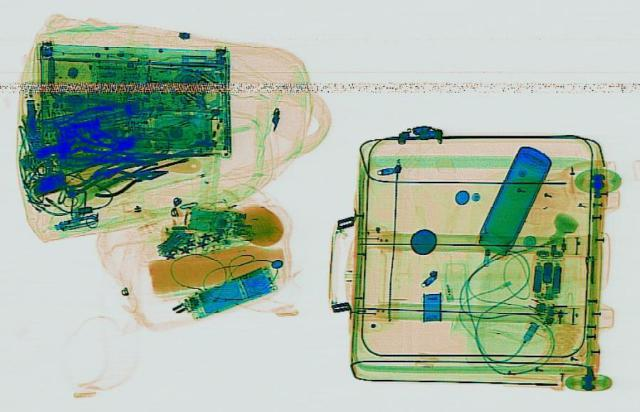Pliers: (80, 158, 174, 199)
